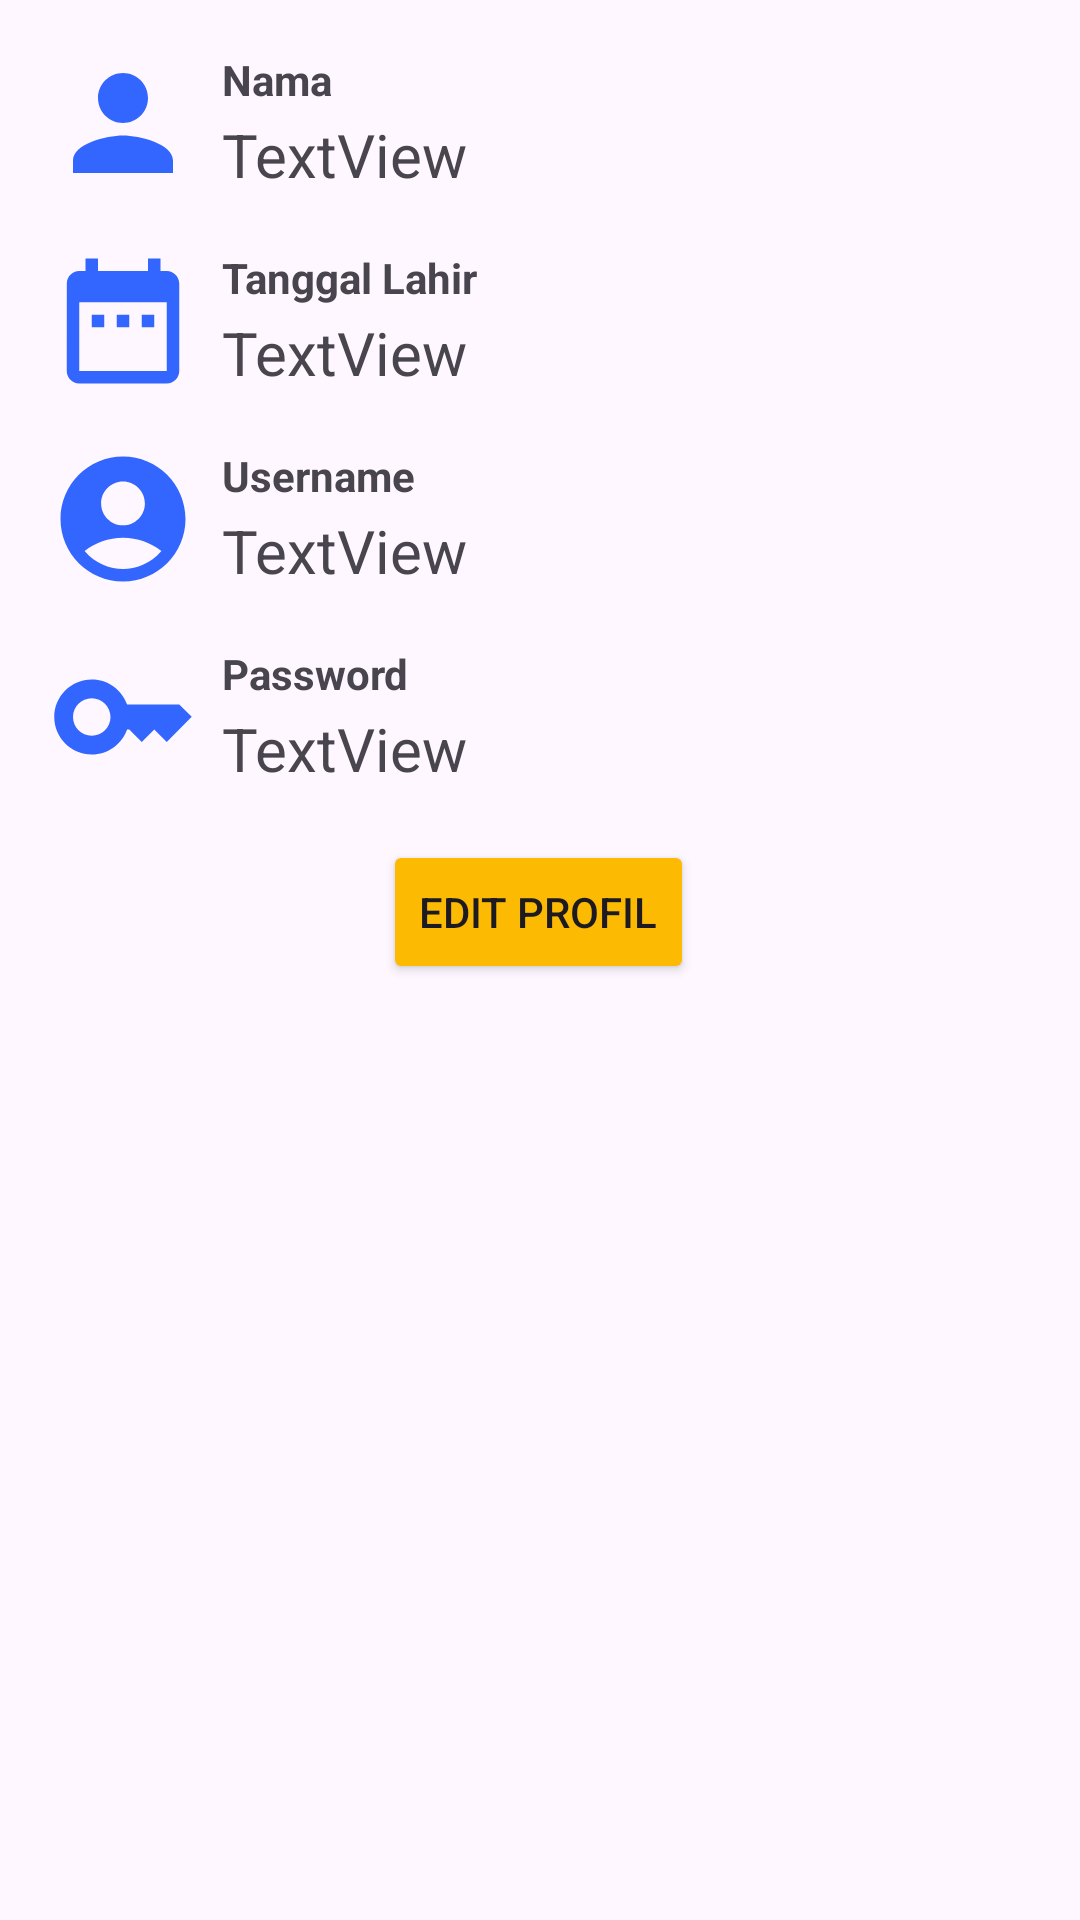

Where to tap for icons on this 1080 x 1920 app screen, as (x=x, y=y):
account circle: (x=123, y=519)
date range: (x=123, y=321)
key: (x=123, y=717)
person: (x=123, y=123)
